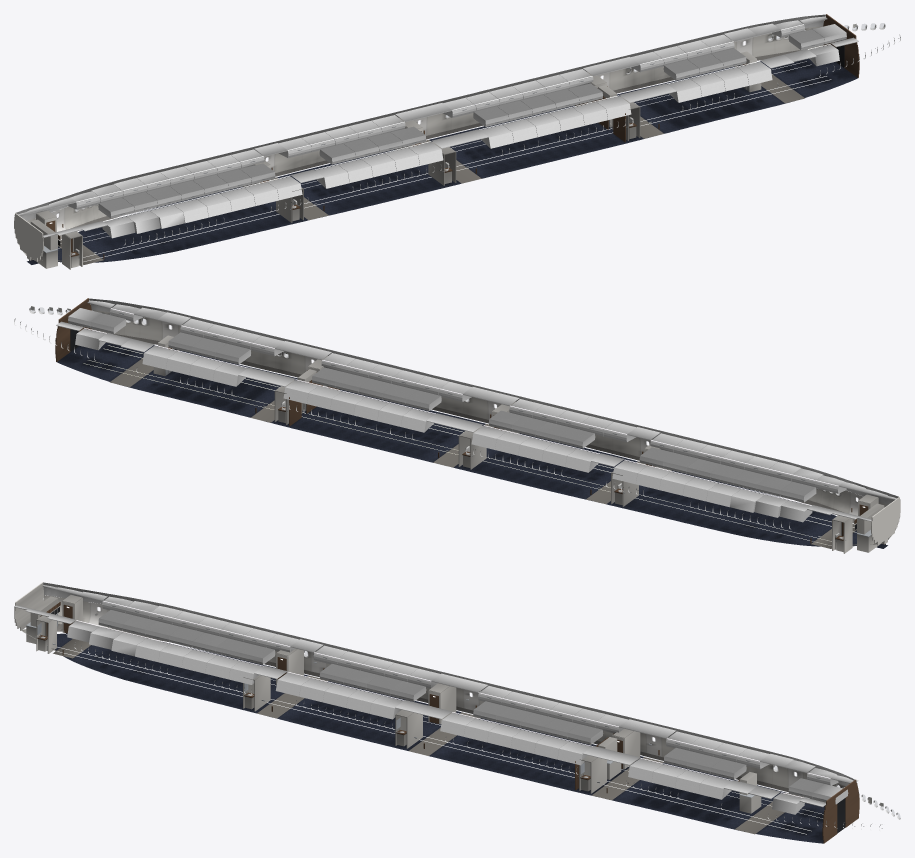
The model's file is b747-400-cabin.glb.
The picture shows the model from 3 angles, top to bottom: view 1: azimuth 30°, elevation 25°; view 2: azimuth 150°, elevation 25°; view 3: azimuth 330°, elevation 25°; orthographic projection.
Visible parts, largest first — view 1: Cabin_Overhead, Cabin_Floor, Cabin_Lining, Cabin_Monuments, Cabin_Reveals; view 2: Cabin_Overhead, Cabin_Floor, Cabin_Lining, Cabin_Monuments, Cabin_Reveals; view 3: Cabin_Overhead, Cabin_Floor, Cabin_Monuments, Cabin_Lining, Cabin_Reveals.
Part boxes in pixels (box(x1,y1,x2,y2)): Cabin_Overhead: box(14, 16, 858, 238); Cabin_Floor: box(27, 58, 857, 266); Cabin_Lining: box(14, 14, 825, 261); Cabin_Monuments: box(14, 14, 859, 269); Cabin_Reveals: box(75, 23, 900, 245); Cabin_Overhead: box(56, 300, 900, 522); Cabin_Floor: box(57, 342, 887, 550); Cabin_Lining: box(89, 298, 900, 545); Cabin_Monuments: box(55, 298, 900, 553); Cabin_Reveals: box(14, 306, 839, 529); Cabin_Overhead: box(14, 585, 858, 814); Cabin_Floor: box(53, 632, 825, 843); Cabin_Monuments: box(14, 582, 859, 843); Cabin_Lining: box(20, 582, 858, 802); Cabin_Reveals: box(74, 642, 900, 830).
Size of the model in its own units: 59.59 by 2.65 by 6.44.
Materials: 21 (7 with a texture image).
